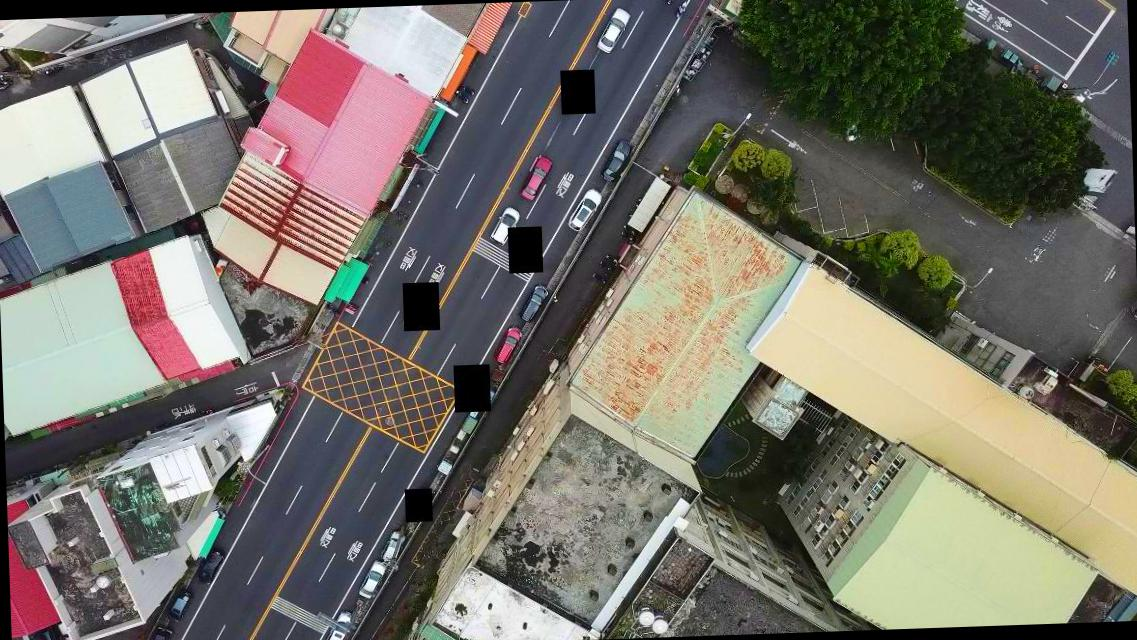vehicle: (566, 185, 604, 233), (518, 154, 553, 202), (596, 7, 633, 52), (598, 138, 632, 183), (492, 322, 524, 367), (490, 203, 521, 246), (194, 547, 227, 587), (518, 282, 549, 324), (356, 558, 386, 600), (320, 609, 356, 639), (166, 590, 194, 624), (381, 526, 406, 562), (148, 624, 173, 639)
